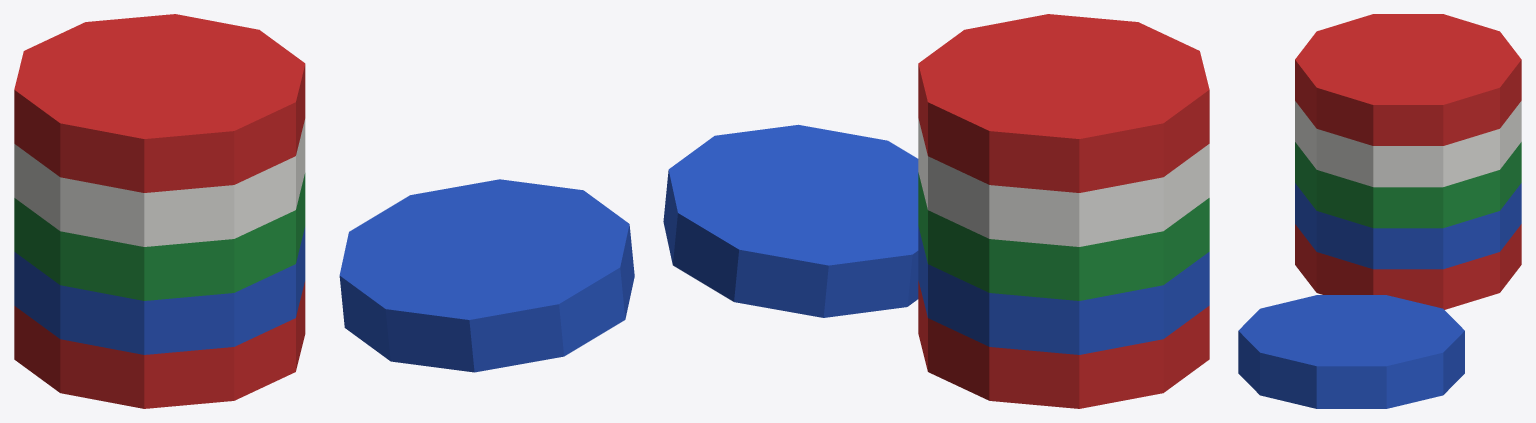
The model's file is casino_chips.glb.
3 views of the same model, side by side, from view 1: azimuth 30°, elevation 25°; view 2: azimuth 150°, elevation 25°; view 3: azimuth 270°, elevation 25° (orthographic). The views are drawn at different scales.
Parts seen in each view (by area): view 1: chips_chip_blue, chips_chip_red, chips_chip_green, chips_chip_white; view 2: chips_chip_red, chips_chip_blue, chips_chip_green, chips_chip_white; view 3: chips_chip_red, chips_chip_blue, chips_chip_green, chips_chip_white.
Boxes of the visible parts, <box> form: chips_chip_blue: <box>14,179,634,372</box>; chips_chip_red: <box>14,14,305,408</box>; chips_chip_green: <box>14,173,305,300</box>; chips_chip_white: <box>14,119,305,246</box>; chips_chip_red: <box>918,14,1209,408</box>; chips_chip_blue: <box>663,124,1209,354</box>; chips_chip_green: <box>918,172,1209,300</box>; chips_chip_white: <box>918,118,1209,246</box>; chips_chip_red: <box>1295,14,1521,309</box>; chips_chip_blue: <box>1238,183,1521,408</box>; chips_chip_green: <box>1295,142,1521,228</box>; chips_chip_white: <box>1295,101,1521,187</box>.
Size of the model in its own units: 0.0833 by 0.0419 by 0.05.
